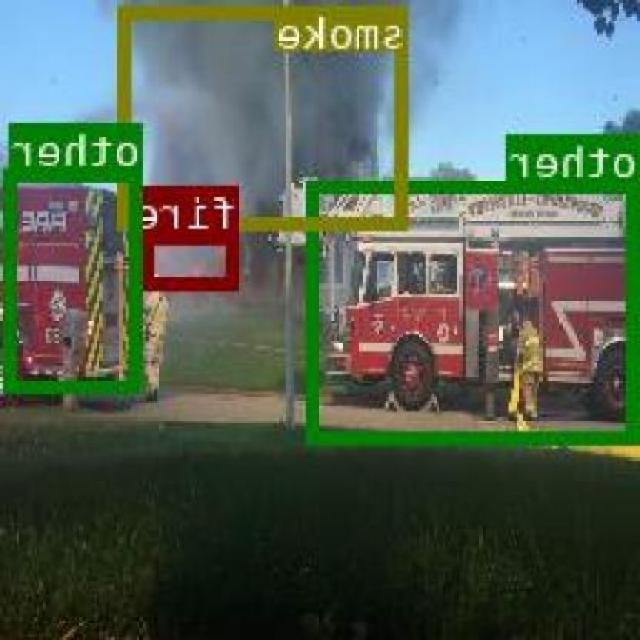Fire: (143, 230, 242, 287)
Smoke: (122, 3, 410, 225)
